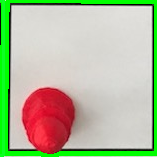Red Pawn: (19, 83, 78, 155)
